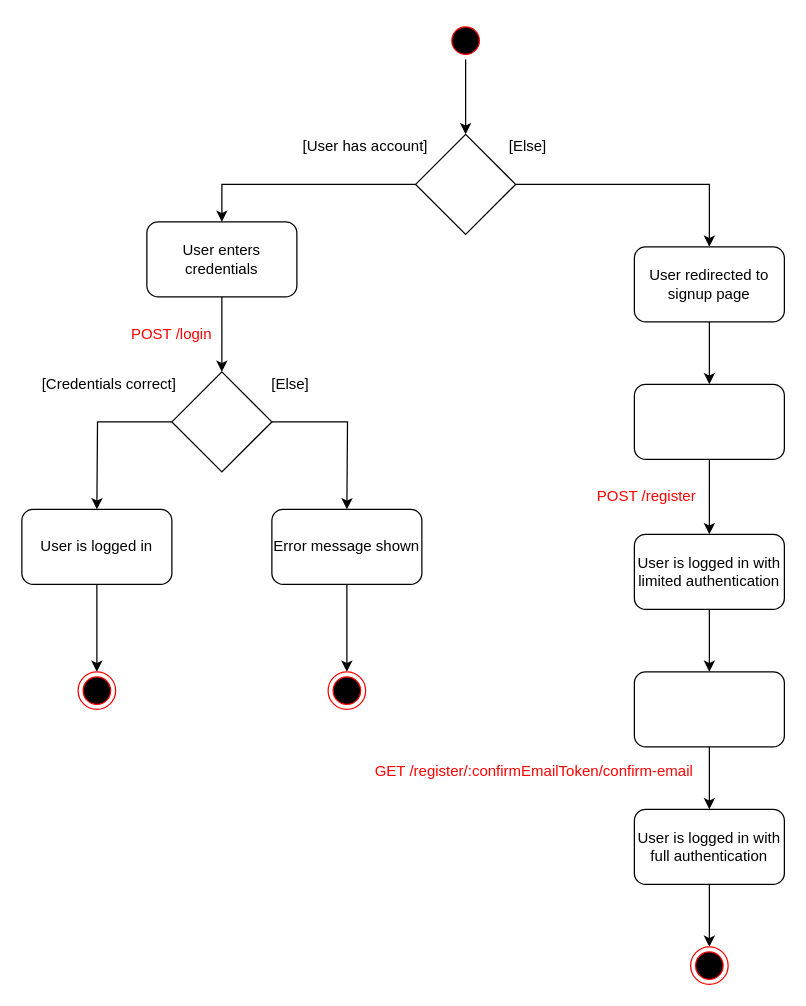
Some shapes in this 806 by 1006 pixel diagram are drawn without their labels. The shapes that lost their labels are listed below. From the top down, each one's centre as x and y in pixels, then its label:
the point at 708,421: User signs up with email and password
the point at 708,709: User verifies email
